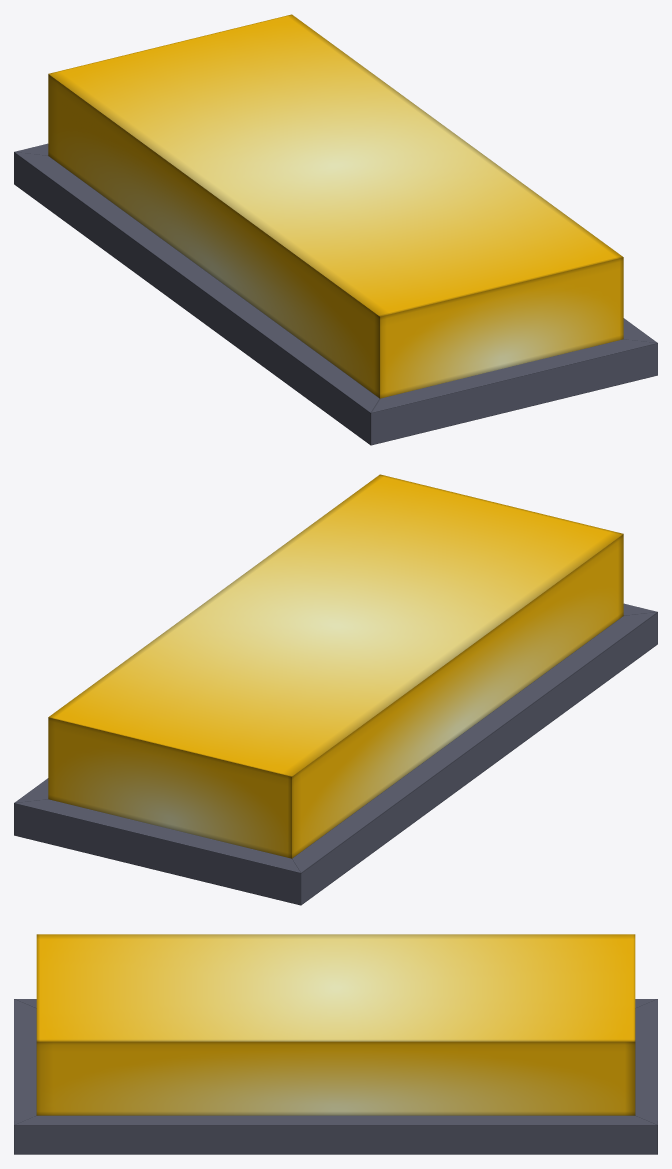
The model's file is Button_Rectangular_Yellow.FBX.
3 views of the same model, one above another, from view 1: azimuth 30°, elevation 25°; view 2: azimuth 150°, elevation 25°; view 3: azimuth 270°, elevation 25° (orthographic). The views are drawn at different scales.
Parts seen in each view (by area): view 1: Push_Me, Button_Rectangular_Yellow; view 2: Push_Me, Button_Rectangular_Yellow; view 3: Push_Me, Button_Rectangular_Yellow.
Boxes of the visible parts, <box> form: Push_Me: <box>48,14,623,398</box>; Button_Rectangular_Yellow: <box>14,143,657,445</box>; Push_Me: <box>48,474,623,858</box>; Button_Rectangular_Yellow: <box>14,603,657,905</box>; Push_Me: <box>36,934,635,1115</box>; Button_Rectangular_Yellow: <box>14,999,657,1154</box>.
Bounding box in the file's own units: 0.0922 × 0.0351 × 0.1985.
